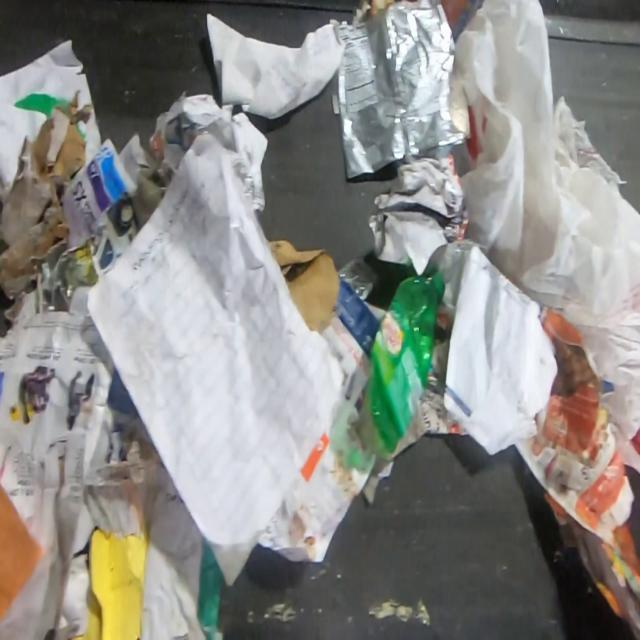cardboard: (0, 87, 94, 297), (268, 237, 340, 332)
rigid_plastic: (362, 265, 446, 454), (318, 259, 382, 393)
soft_plastic: (426, 0, 640, 439), (336, 0, 470, 180)
